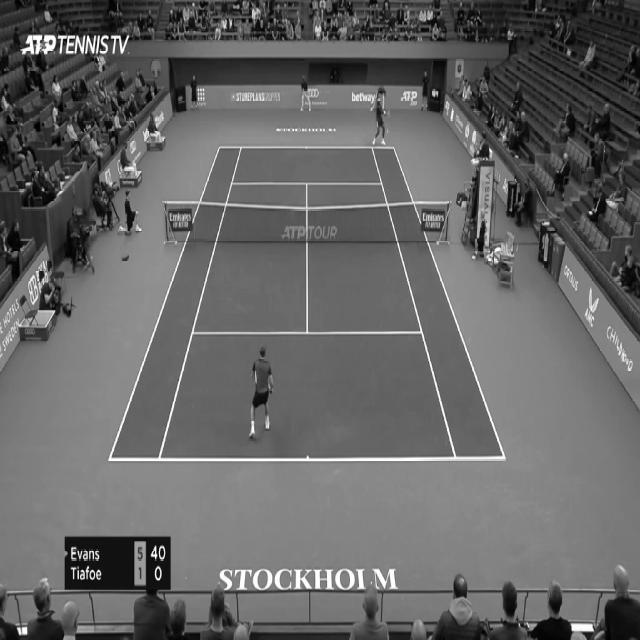tennis-court: (107, 147, 506, 461)
